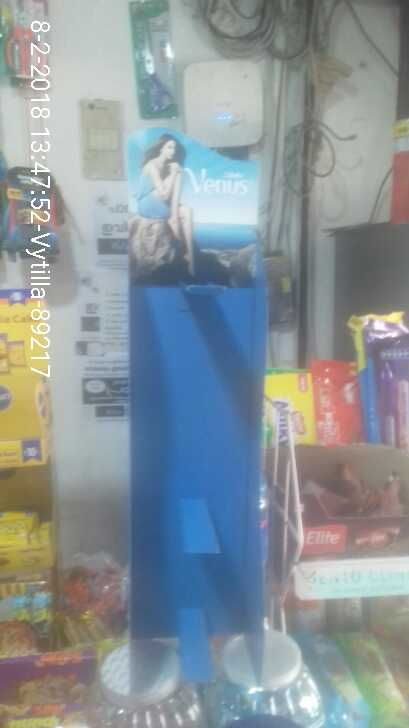reject: (122, 277, 242, 405)
